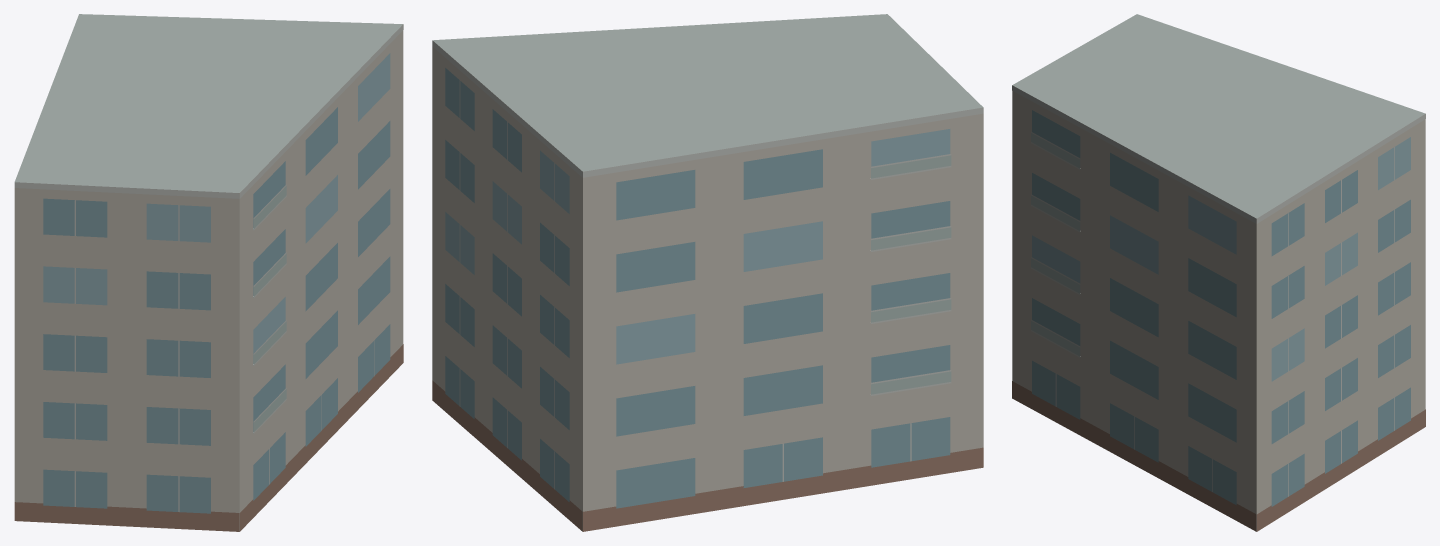
Rendered from survey-upis-32491581.glb.
3 views of the same model, side by side, from view 1: azimuth 30°, elevation 25°; view 2: azimuth 150°, elevation 25°; view 3: azimuth 270°, elevation 25° (orthographic). The views are drawn at different scales.
Visible parts, largest first — view 1: survey-upis-32491581.tmp; view 2: survey-upis-32491581.tmp; view 3: survey-upis-32491581.tmp.
Part boxes in pixels (bbox=[...]): survey-upis-32491581.tmp: bbox=[14, 14, 403, 531]; survey-upis-32491581.tmp: bbox=[432, 14, 983, 531]; survey-upis-32491581.tmp: bbox=[1012, 14, 1425, 531].
Bounding box in the file's own units: 20.19 × 14.4 × 17.24.
